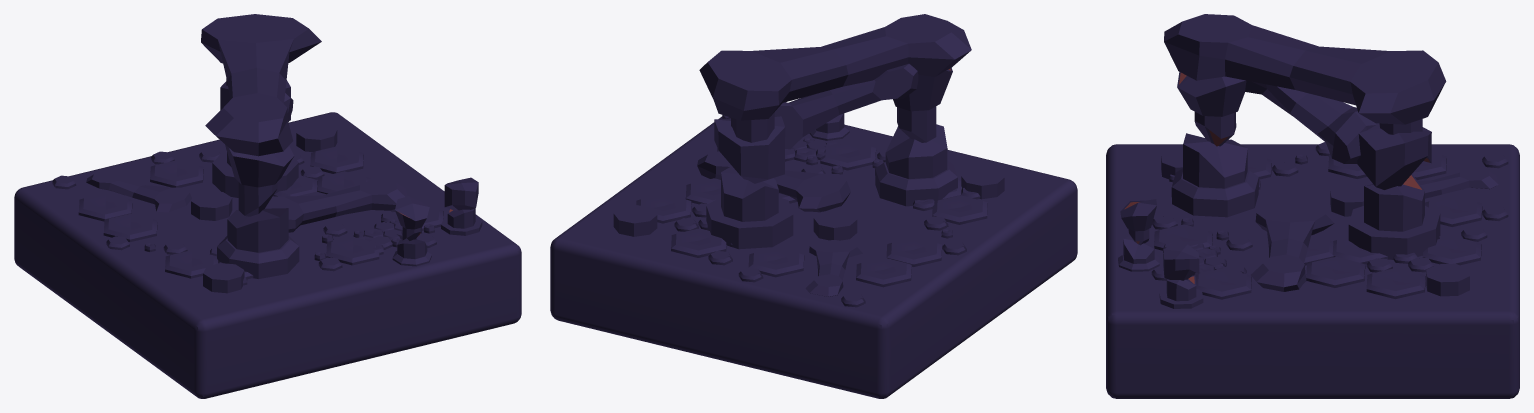
File: isla volcan2.fbx
3 views of the same model, side by side, from view 1: azimuth 30°, elevation 25°; view 2: azimuth 150°, elevation 25°; view 3: azimuth 270°, elevation 25° (orthographic). The views are drawn at different scales.
Parts seen in each view (by area): view 1: pCylinder66; view 2: pCylinder66; view 3: pCylinder66, pCylinder65.
Part boxes in pixels (x1,y1,x2,y2): pCylinder66: (14, 14, 521, 398); pCylinder66: (550, 14, 1077, 398); pCylinder66: (1106, 14, 1519, 398); pCylinder65: (1124, 72, 1429, 283).
Size of the model in its own units: 14.16 by 9.69 by 14.16.
